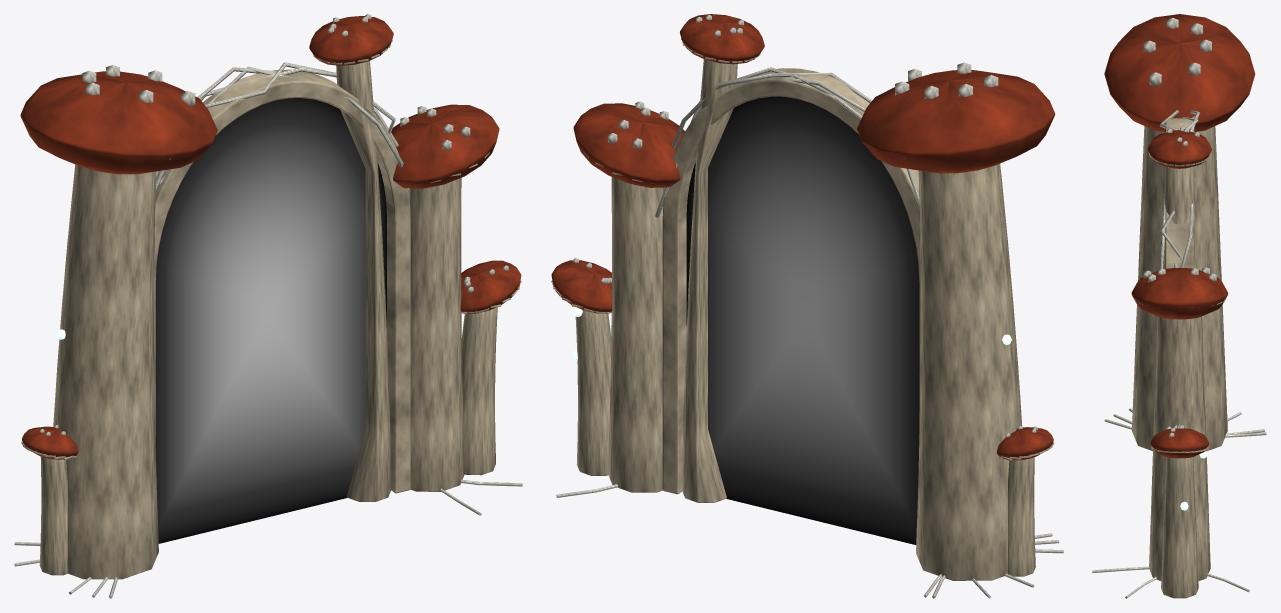
File: mushroom_glade.glb
3 renders of one model, left to right at view 1: azimuth 30°, elevation 25°; view 2: azimuth 150°, elevation 25°; view 3: azimuth 270°, elevation 25°, orthographic. The views are drawn at different scales.
Parts seen in each view (by area): view 1: Frame, Veil, Frame_Detail; view 2: Frame, Veil, Frame_Detail; view 3: Frame, Frame_Detail.
Boxes of the visible parts, <box> form: Frame: <box>20,16,521,579</box>; Veil: <box>155,98,386,543</box>; Frame_Detail: <box>14,14,522,598</box>; Frame: <box>551,14,1055,580</box>; Veil: <box>686,96,919,544</box>; Frame_Detail: <box>551,15,1063,598</box>; Frame: <box>1104,14,1255,598</box>; Frame_Detail: <box>1092,17,1266,598</box>.
Size of the model in its own units: 3.05 by 2.86 by 1.09.
Materials: 5 (4 with a texture image).
